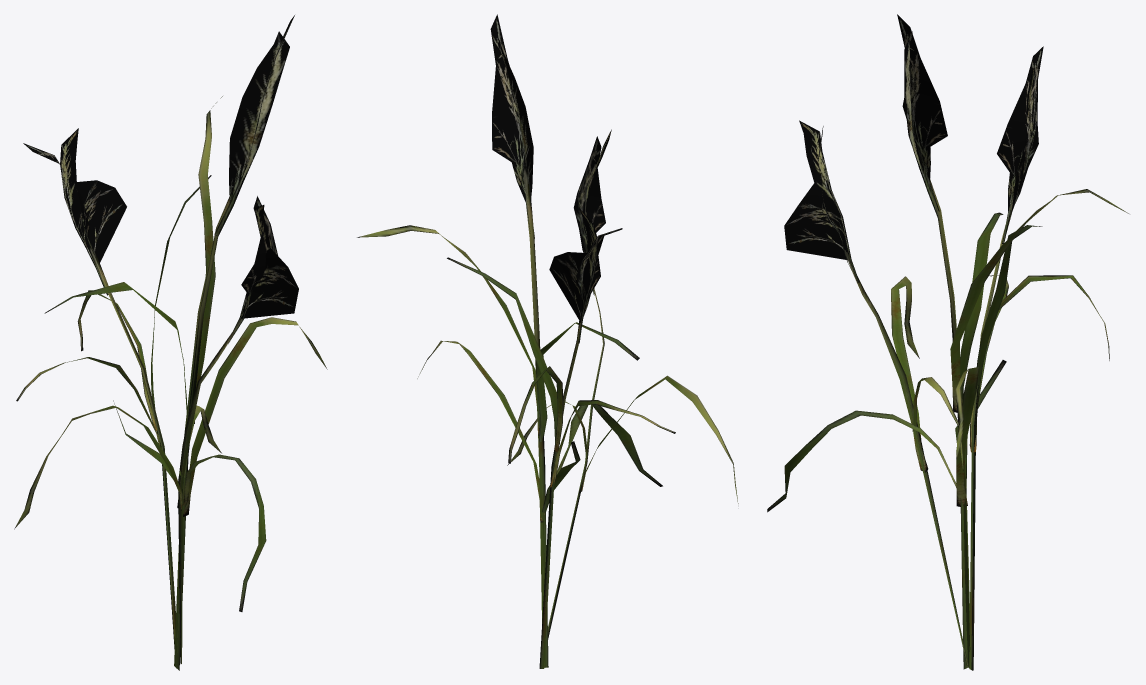
File: SM_Grass_10.gltf
3 views of the same model, side by side, from view 1: azimuth 30°, elevation 25°; view 2: azimuth 150°, elevation 25°; view 3: azimuth 270°, elevation 25° (orthographic). The views are drawn at different scales.
Parts seen in each view (by area): view 1: SM_Grass_10; view 2: SM_Grass_10; view 3: SM_Grass_10.
Boxes of the visible parts, <box> form: SM_Grass_10: <box>14,15,327,670</box>; SM_Grass_10: <box>357,14,738,668</box>; SM_Grass_10: <box>767,14,1128,670</box>.
Bounding box in the file's own units: 0.1499 × 0.2857 × 0.1348.
Materials: 1 (1 with a texture image).
